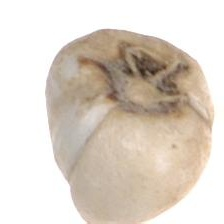L4: (44, 29, 214, 221)
